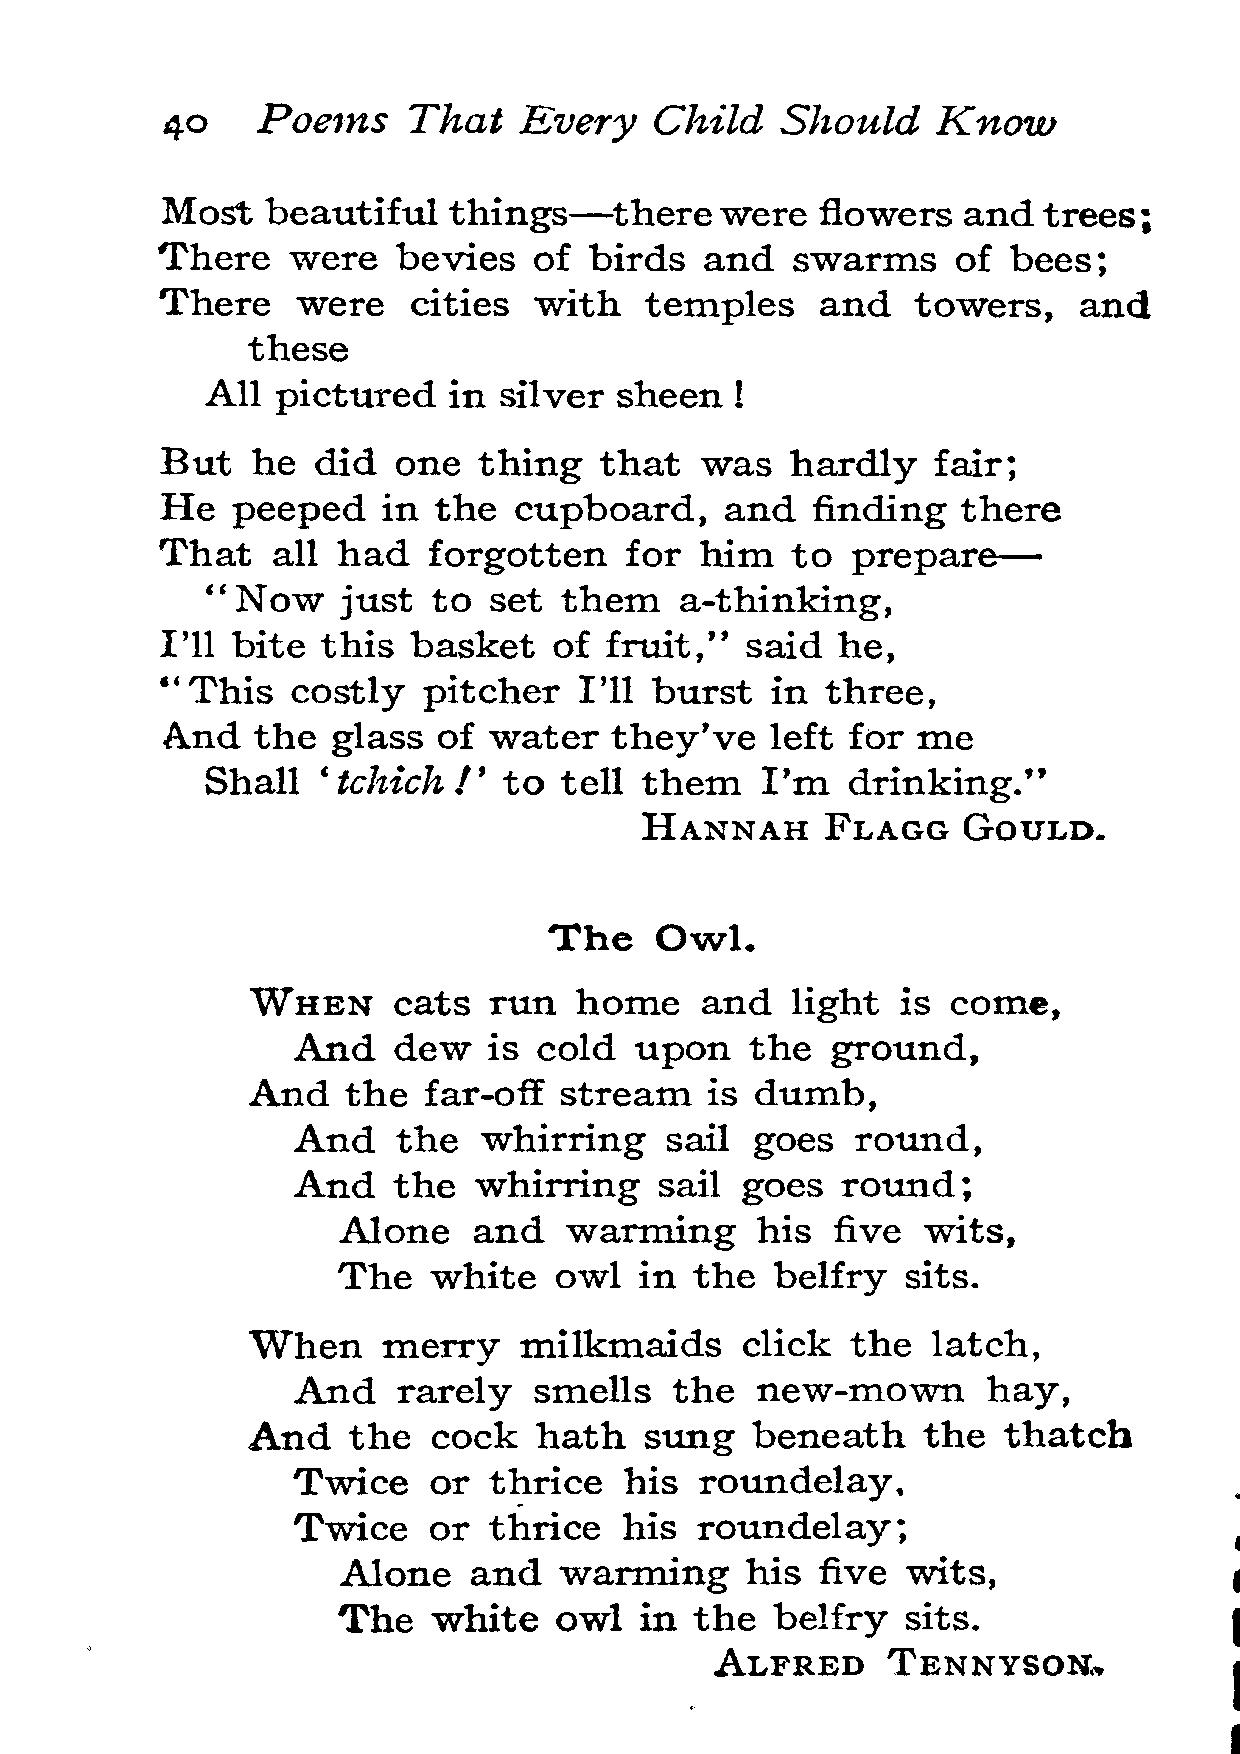chapter: (539, 910, 761, 960)
content: (154, 185, 1155, 864), (240, 981, 1137, 1688)
content_chapter: (252, 97, 1057, 142)
content_pagenumber: (157, 103, 209, 148)
